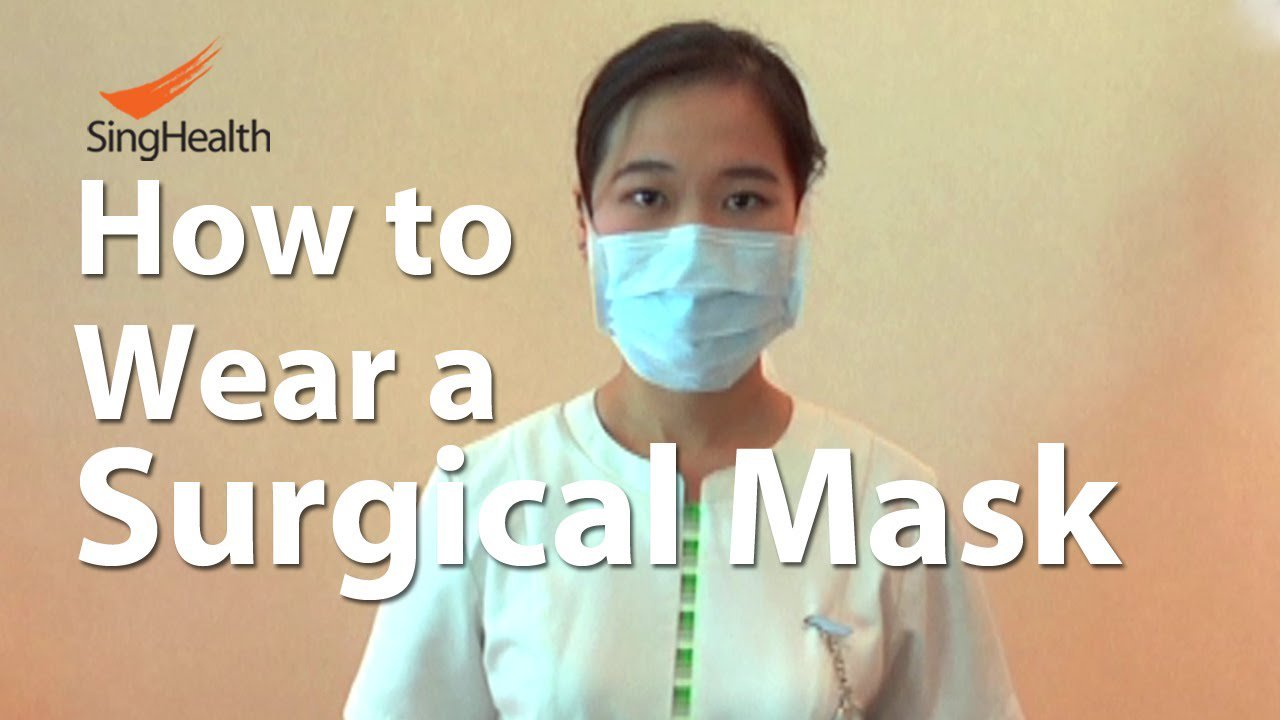mask: (574, 25, 867, 389)
